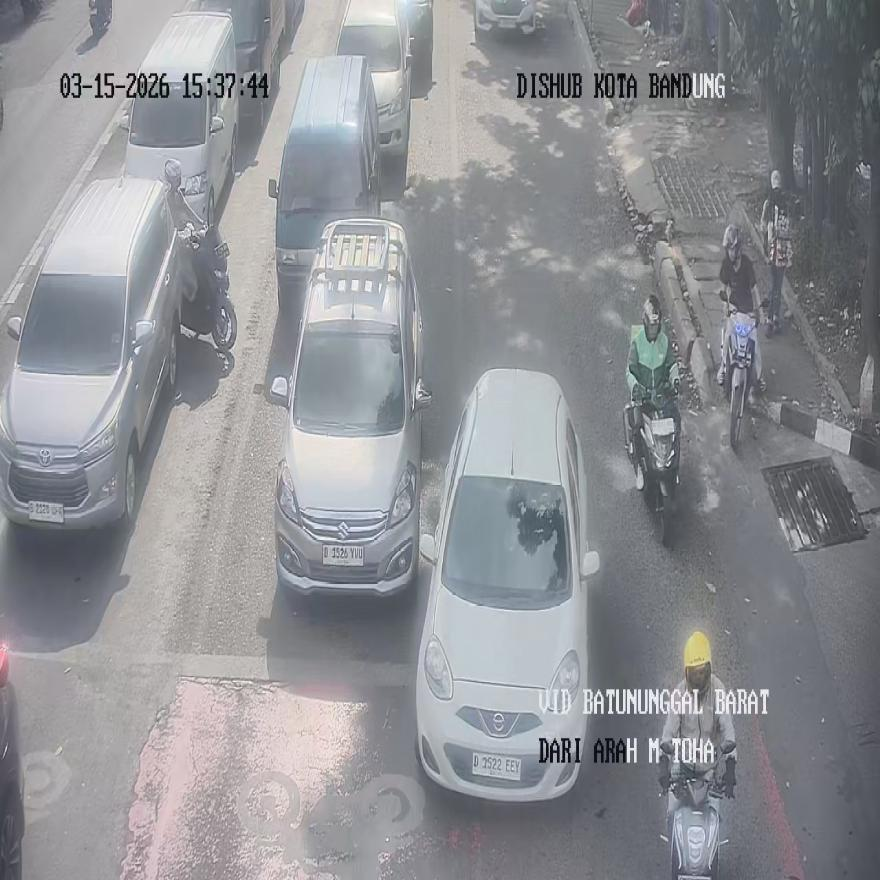Motor: (413, 368, 599, 799), (0, 174, 181, 529), (269, 218, 432, 598), (268, 55, 382, 310), (122, 12, 238, 229), (336, 0, 413, 159), (197, 0, 285, 134)
Truk: (660, 739, 736, 879), (179, 222, 237, 351), (630, 401, 679, 544), (721, 294, 757, 448), (760, 172, 792, 336), (88, 0, 112, 38)
